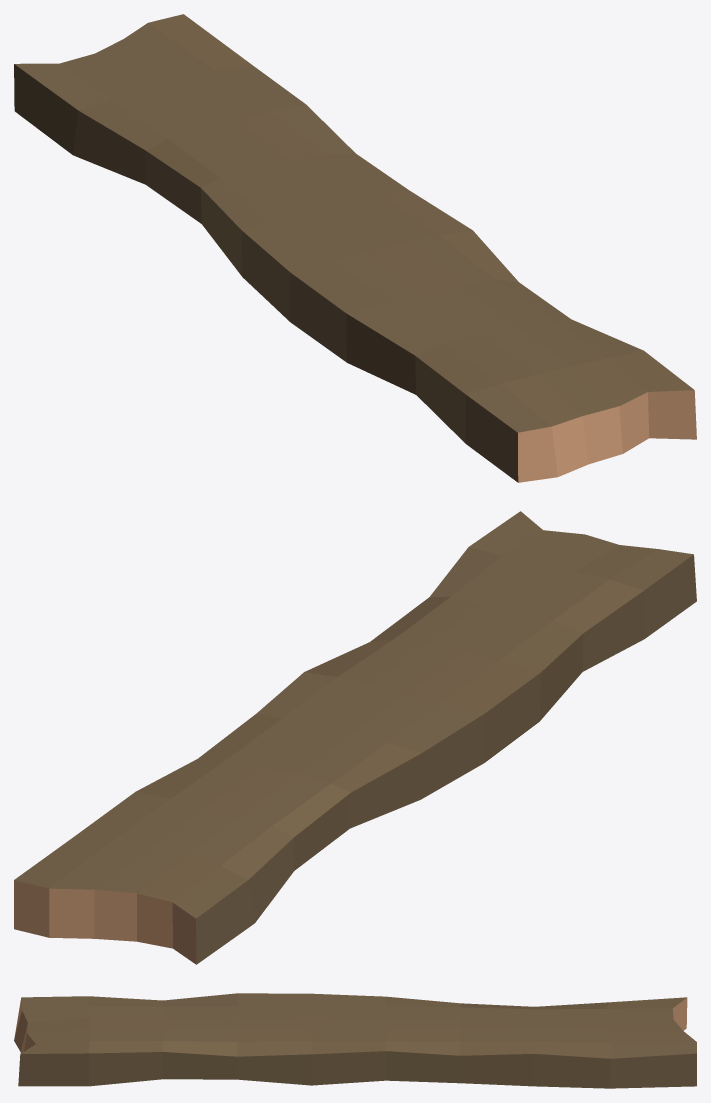
The model's file is planch_01.fbx.
The picture shows the model from 3 angles, top to bottom: view 1: azimuth 30°, elevation 25°; view 2: azimuth 150°, elevation 25°; view 3: azimuth 270°, elevation 25°; orthographic projection. The views are drawn at different scales.
Visible parts, largest first — view 1: Cube.006, Cube.007; view 2: Cube.006, Cube.007; view 3: Cube.006, Cube.007.
Part boxes in pixels (x1,y1,x2,y2): Cube.006: [14, 14, 693, 482]; Cube.007: [518, 390, 696, 482]; Cube.006: [14, 511, 696, 964]; Cube.007: [14, 880, 196, 964]; Cube.006: [18, 993, 696, 1088]; Cube.007: [14, 997, 687, 1053].
Size of the model in its own units: 122 by 31.67 by 556.
